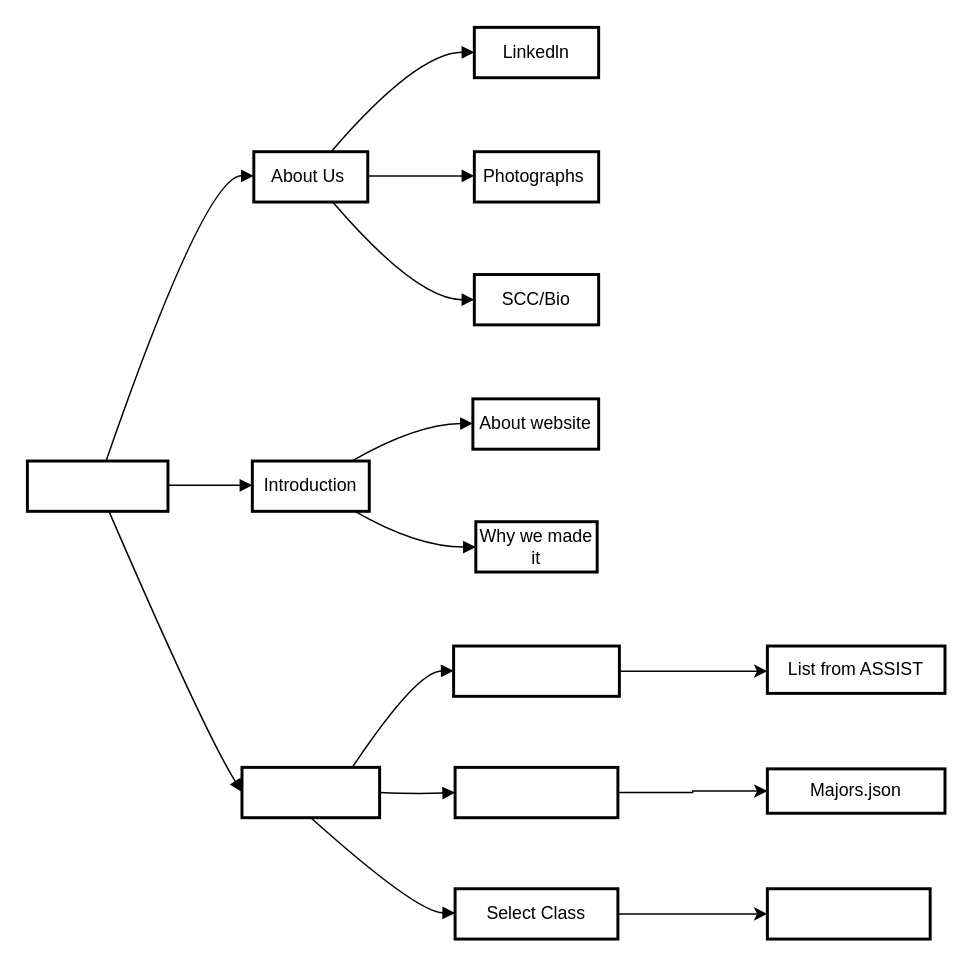
Image size: 971x965. Some labels were removed from this diagram. The centre of each missing label's shape, as x and y in pixels:
Articulation.json: the point at 848,913
Home Page: the point at 97,485
Select Major: the point at 536,791
Select University: the point at 535,670
Tools: the point at 310,791
